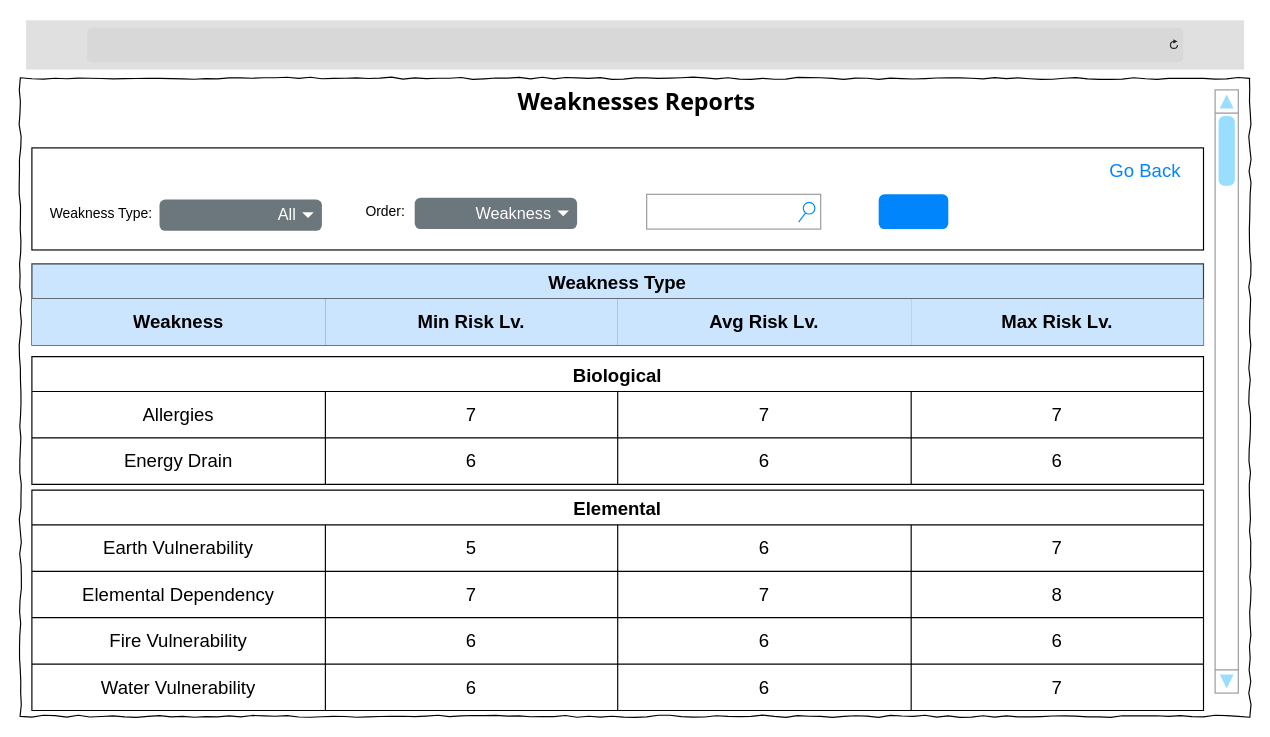
Image size: 1270x737. Some labels were removed from this diagram. Each missing label, with the centre of its shape:
"Apply" belongs at (x=913, y=211).
"fourthwallacademy.com/Dashboard/Weaknesses" belongs at (x=634, y=44).
"Search" belongs at (x=733, y=211).
